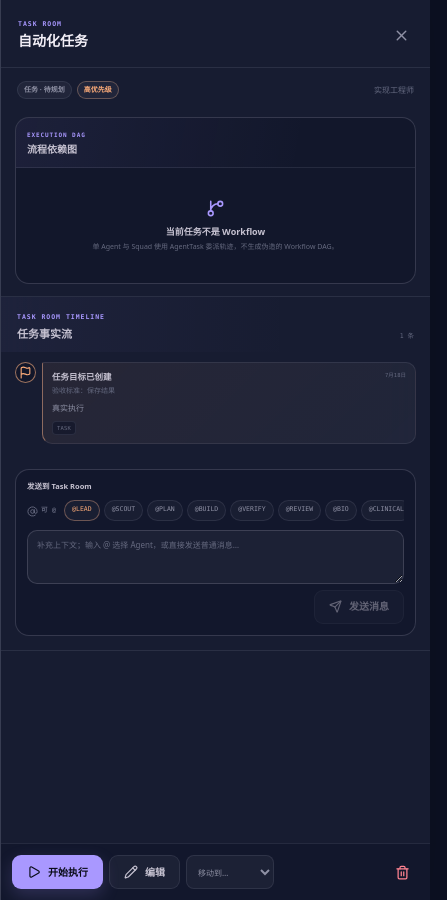
Test: Kanban automation interactions › opens the Agent roster for a Chinese @ query and inserts the stable callsign
The width and height of the screenshot is (447, 900).
Type "请让 @策略" into the text box with placeholder "补充上下文；输入 @ 选择 Agent，或直接发送普通消息…" at (216, 557), box [27,530,404,584]
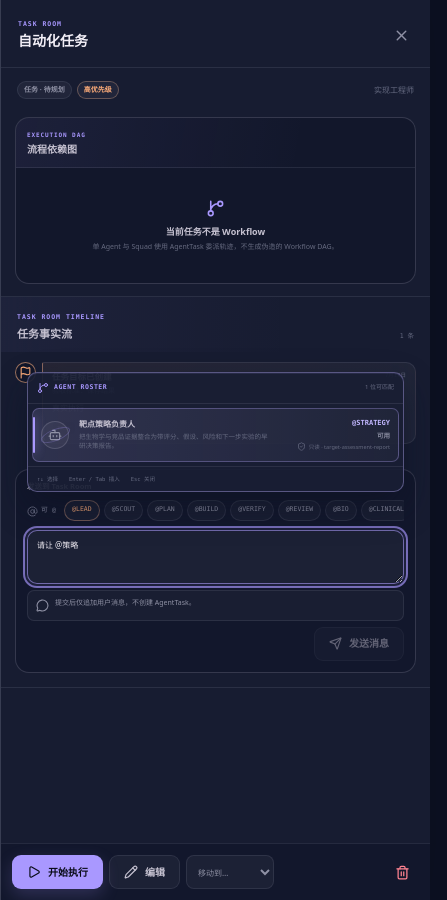
Expected: the list named "选择要 @ 的 Agent" shows "靶点策略负责人"
Click the option "靶点策略负责人" at (216, 435), box [32,408,399,462]
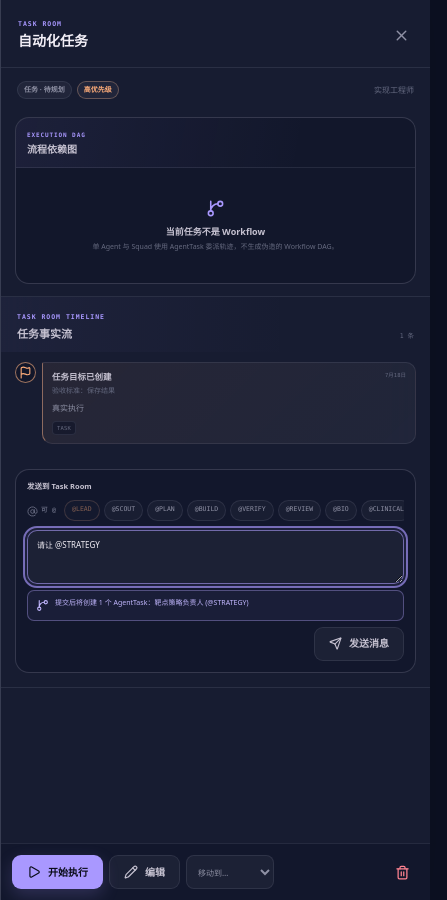
Expected: the text box with placeholder "补充上下文；输入 @ 选择 Agent，或直接发送普通消息…" holds "请让 @STRATEGY ", [27,530,404,584]
Expected: the message shows "靶点策略负责人 (@STRATEGY)", [154,598,249,607]
